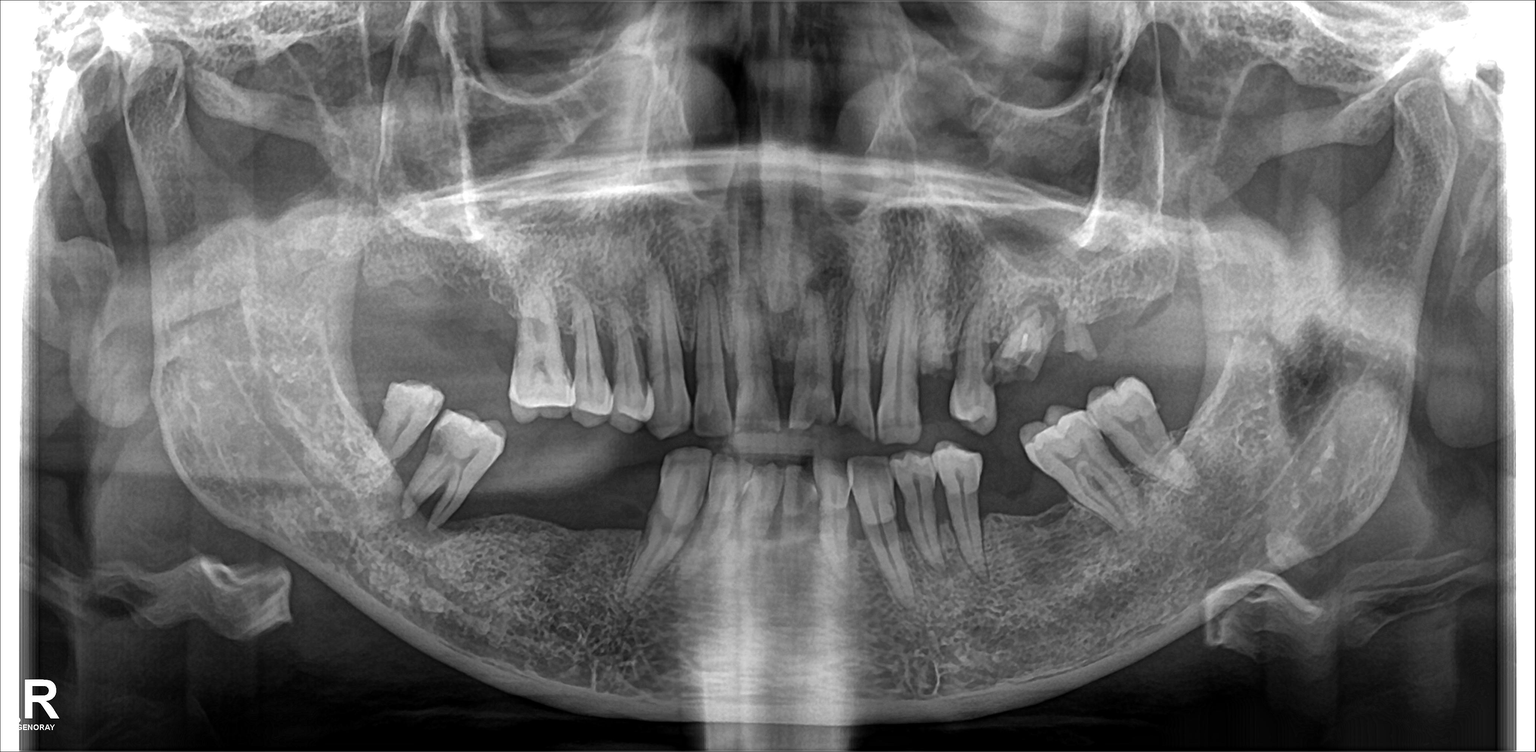Missing Tooth: (499, 449, 550, 593), (359, 236, 417, 361), (425, 231, 471, 361), (1102, 255, 1155, 364), (993, 452, 1046, 550), (473, 233, 514, 359), (566, 452, 606, 581), (1156, 354, 1201, 445)
Retained Root: (1043, 277, 1097, 374), (985, 292, 1034, 396), (924, 289, 955, 396)
